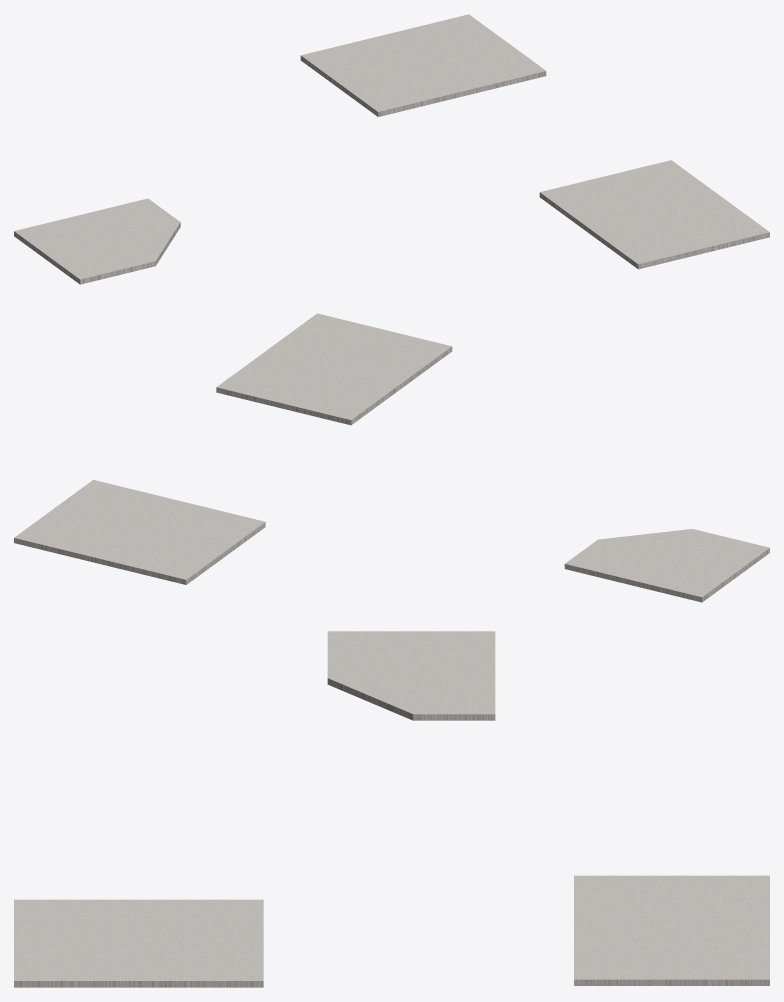
Rendered from KBH_Interior_model1989_Flooring_Carpet.glb.
3 renders of one model, top to bottom at view 1: azimuth 30°, elevation 25°; view 2: azimuth 150°, elevation 25°; view 3: azimuth 270°, elevation 25°, orthographic. The views are drawn at different scales.
Visible parts, largest first — view 1: Line22366, Line22368; view 2: Line22366, Line22368; view 3: Line22366, Line22368.
Boxes of the visible parts, x1,y1,x2,y2 form: Line22366: (14,160,769,284); Line22368: (300,14,546,116); Line22366: (216,313,769,602); Line22368: (14,480,265,584); Line22366: (14,631,495,987); Line22368: (574,875,769,985).
Size of the model in its own units: 23.2 by 0.2 by 21.2.
1 material, 1 textured.
